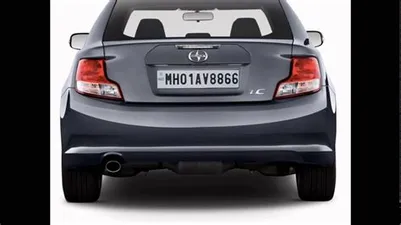number_plate: (154, 64, 249, 95)
